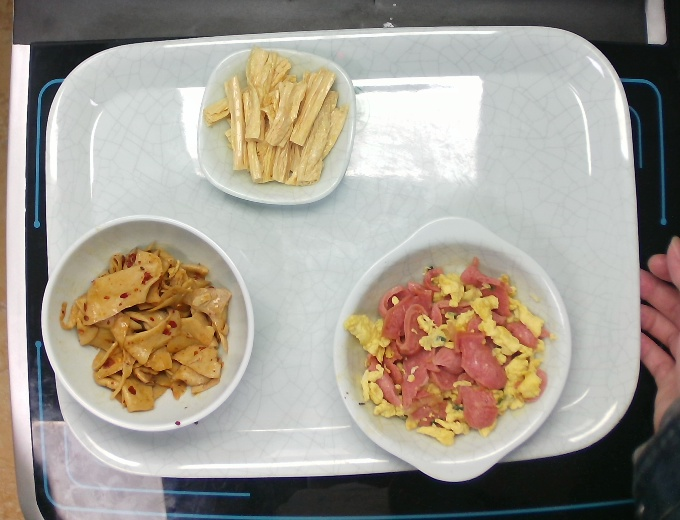JYsf-Fan_Wan: (35, 207, 255, 439)
JYsf-Shuang_Er_Wan: (330, 213, 574, 483)
JYsf-Si_Fang_Die: (191, 39, 359, 209)
